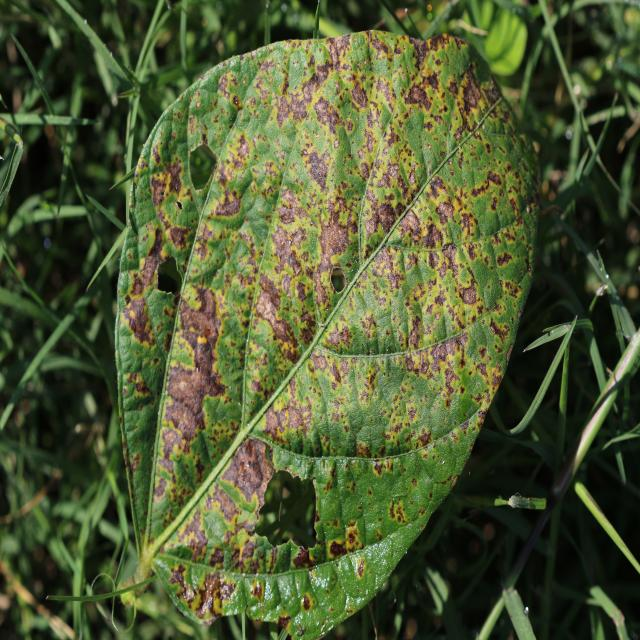Bacterial_Blight: (306, 341, 436, 449), (241, 313, 298, 424), (272, 49, 341, 129), (176, 292, 233, 377), (159, 381, 223, 451), (197, 72, 242, 167), (407, 204, 447, 268), (270, 227, 309, 287), (364, 188, 404, 240), (190, 570, 228, 618), (319, 213, 350, 265), (208, 482, 242, 525), (123, 294, 153, 340), (462, 68, 483, 111), (475, 208, 502, 240), (307, 149, 329, 188), (163, 161, 183, 197), (407, 84, 431, 111), (389, 498, 412, 525), (435, 200, 456, 226), (314, 97, 332, 126), (350, 81, 368, 109), (292, 546, 313, 570), (237, 455, 255, 479), (460, 285, 477, 306), (249, 579, 264, 602), (328, 540, 347, 558), (353, 558, 366, 580), (301, 592, 315, 612), (181, 583, 195, 603), (278, 616, 291, 632), (506, 344, 514, 363), (233, 96, 241, 108), (348, 534, 355, 544), (196, 102, 201, 109)
Soybean: (116, 30, 537, 640)
